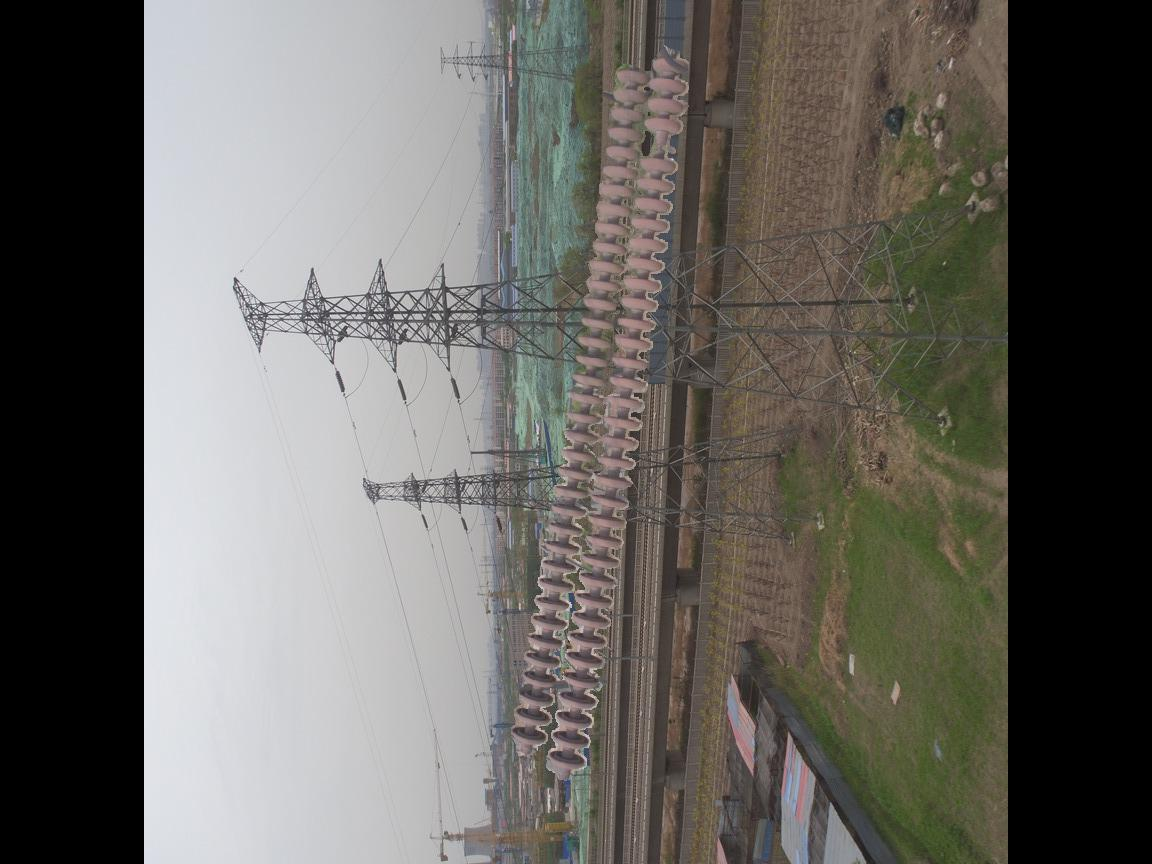insulator: (505, 51, 702, 783)
insulator_stringdrop: (636, 115, 687, 177)
